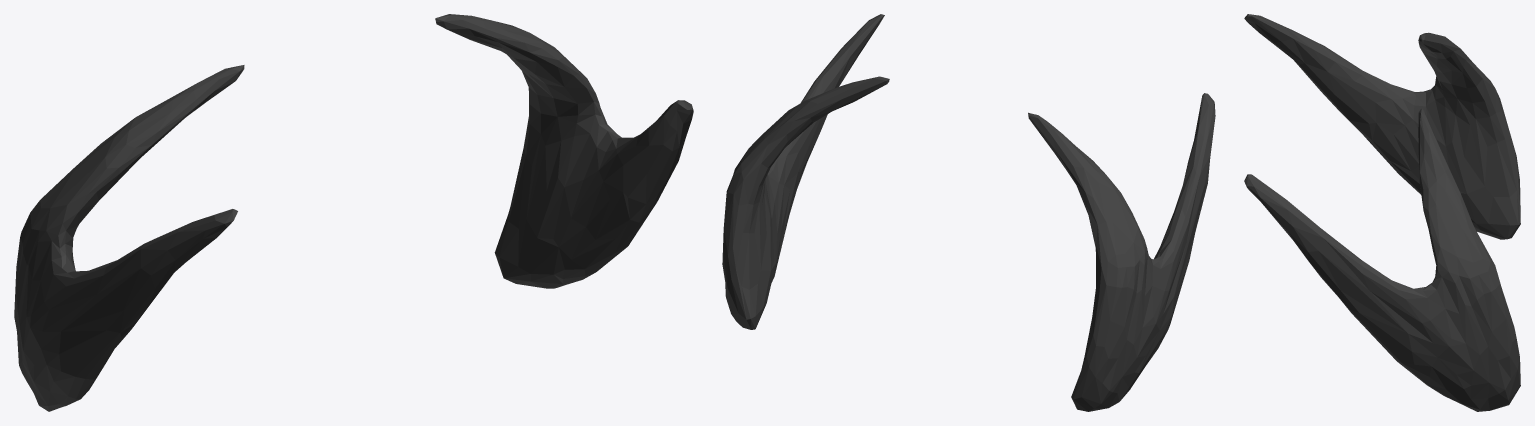
File: m_gluteus_superficialis.glb
3 renders of one model, left to right at view 1: azimuth 30°, elevation 25°; view 2: azimuth 150°, elevation 25°; view 3: azimuth 270°, elevation 25°, orthographic. The views are drawn at different scales.
Visible parts, largest first — view 1: m_gluteus_superficialis; view 2: m_gluteus_superficialis; view 3: m_gluteus_superficialis.
Boxes of the visible parts, bbox=[...] form: m_gluteus_superficialis: bbox=[14, 14, 693, 411]; m_gluteus_superficialis: bbox=[722, 14, 1215, 411]; m_gluteus_superficialis: bbox=[1244, 14, 1520, 411].
Size of the model in its own units: 0.00954 by 0.0053 by 0.00534.
Materials: 1 (1 with a texture image).
